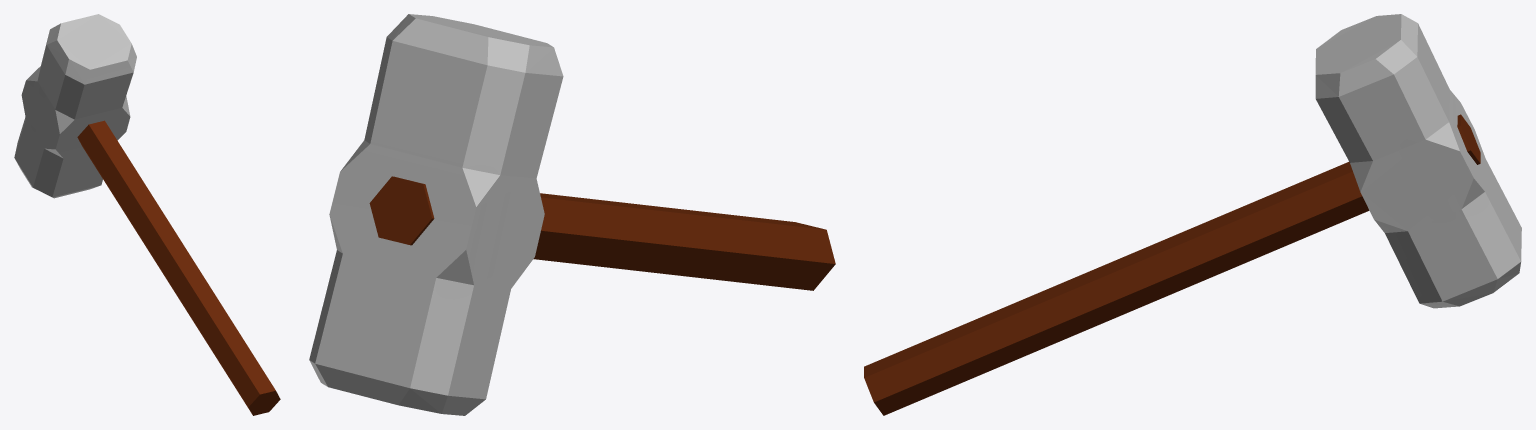
Rendered from Mazo_Cutre.fbx.
3 renders of one model, left to right at view 1: azimuth 30°, elevation 25°; view 2: azimuth 150°, elevation 25°; view 3: azimuth 270°, elevation 25°, orthographic. The views are drawn at different scales.
Visible parts, largest first — view 1: Hammer; view 2: Hammer; view 3: Hammer.
Part boxes in pixels (box(x1,y1,x2,y2)): Hammer: box(14, 14, 280, 415); Hammer: box(309, 14, 835, 415); Hammer: box(864, 14, 1521, 415).
Bounding box in the file's own units: 4.37 × 14.64 × 22.84.
